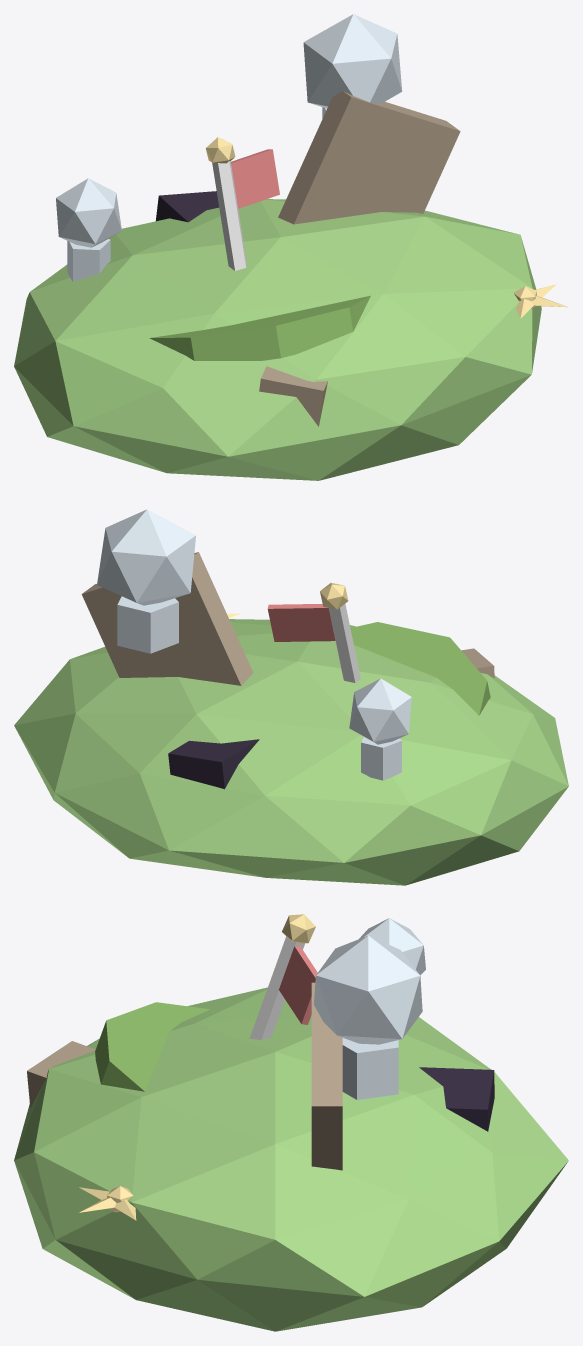
Rendered from park-ruin.glb.
The picture shows the model from 3 angles, top to bottom: view 1: azimuth 30°, elevation 25°; view 2: azimuth 150°, elevation 25°; view 3: azimuth 270°, elevation 25°; orthographic projection. The views are drawn at different scales.
Parts seen in each view (by area): view 1: park-ruin; view 2: park-ruin; view 3: park-ruin.
Part boxes in pixels (bbox=[...]): park-ruin: bbox=[14, 14, 568, 480]; park-ruin: bbox=[14, 509, 568, 885]; park-ruin: bbox=[14, 914, 568, 1331].
Size of the model in its own units: 1.22 by 0.7257 by 1.07.
